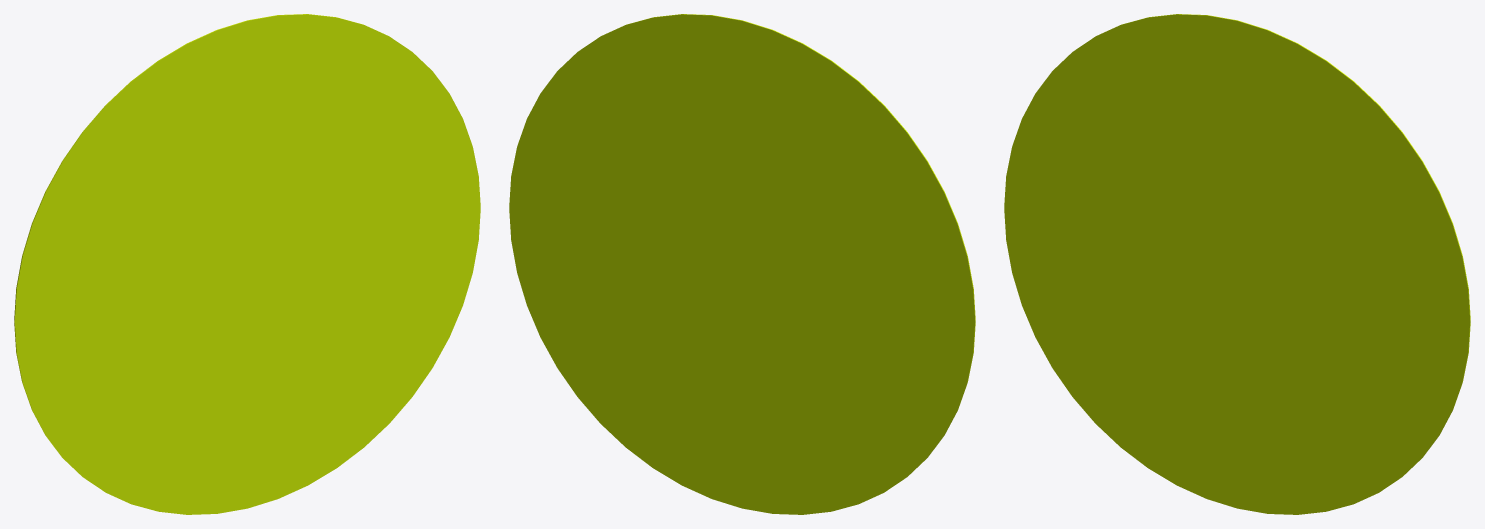
The model's file is aperture_field.glb.
3 renders of one model, left to right at view 1: azimuth 30°, elevation 25°; view 2: azimuth 150°, elevation 25°; view 3: azimuth 330°, elevation 25°, orthographic.
Parts seen in each view (by area): view 1: aperture_field; view 2: aperture_field; view 3: aperture_field.
Boxes of the visible parts, x1,y1,x2,y2 form: aperture_field: (14, 14, 480, 514); aperture_field: (509, 14, 975, 514); aperture_field: (1004, 14, 1470, 514).
Size of the model in its own units: 1.86 by 1.86 by 0.004.
